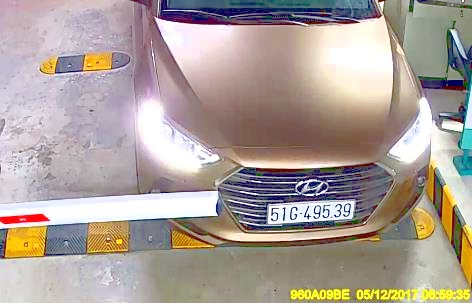plate: (263, 199, 357, 224)
